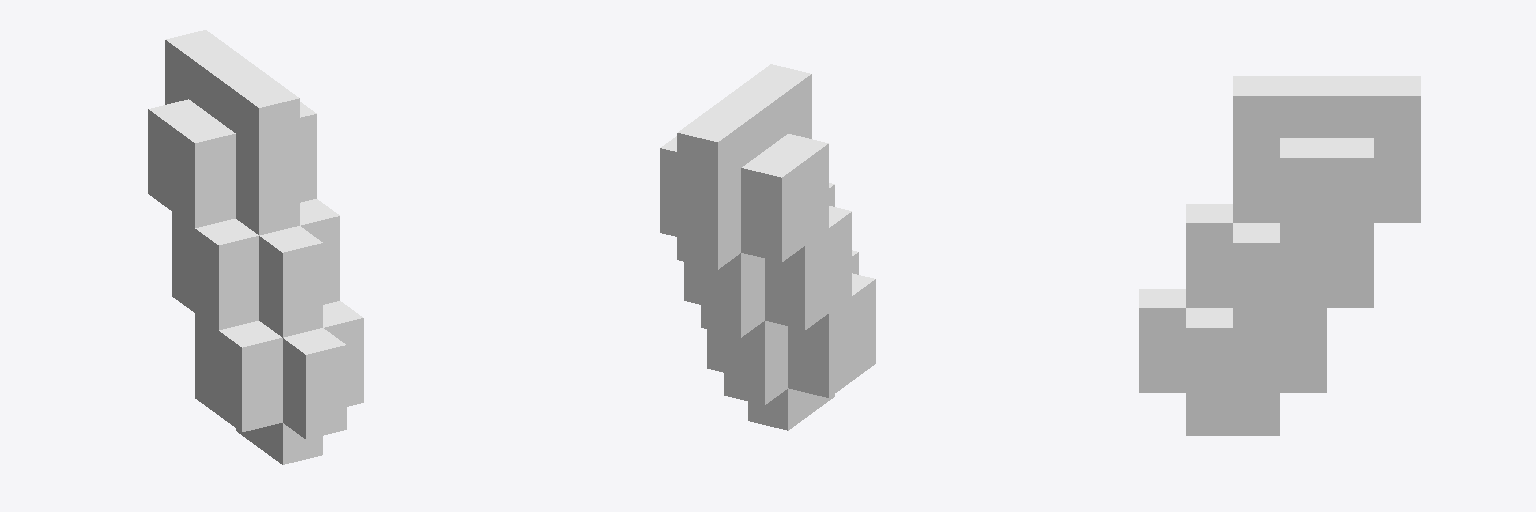
Rendered from magazine.obj.
3 views of the same model, side by side, from view 1: azimuth 30°, elevation 25°; view 2: azimuth 150°, elevation 25°; view 3: azimuth 270°, elevation 25° (orthographic).
Parts seen in each view (by area): view 1: object 1; view 2: object 1; view 3: object 1.
Boxes of the visible parts, box(x1,y1,x2,y2) form: object 1: box(148, 30, 363, 464); object 1: box(660, 64, 875, 430); object 1: box(1139, 76, 1420, 435).
Bounding box in the file's own units: 0.3 × 0.8 × 0.6.